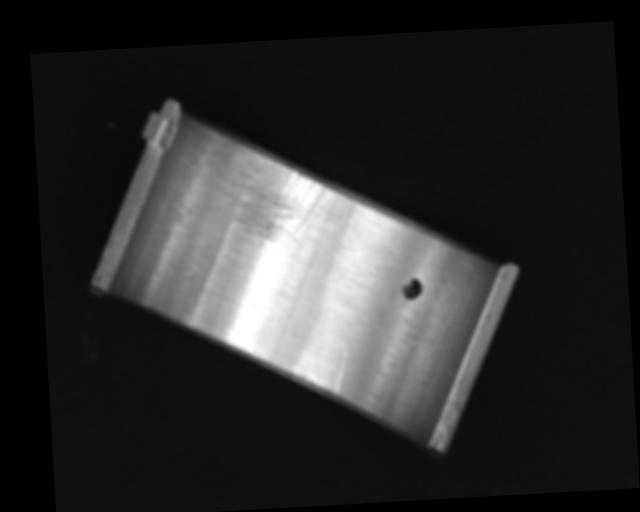blot: (400, 277, 424, 301)
nick: (332, 349, 349, 394)
scratch: (213, 129, 329, 250)
